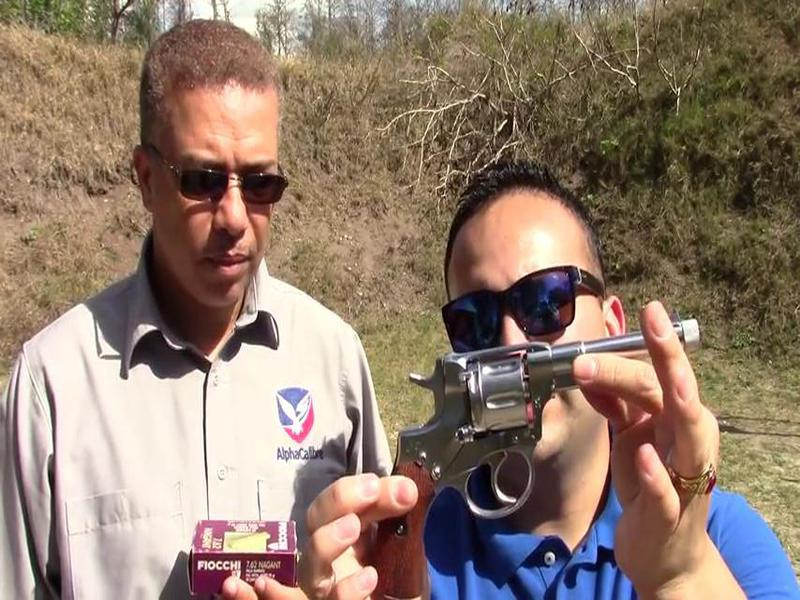Revolver: (352, 307, 721, 600)
